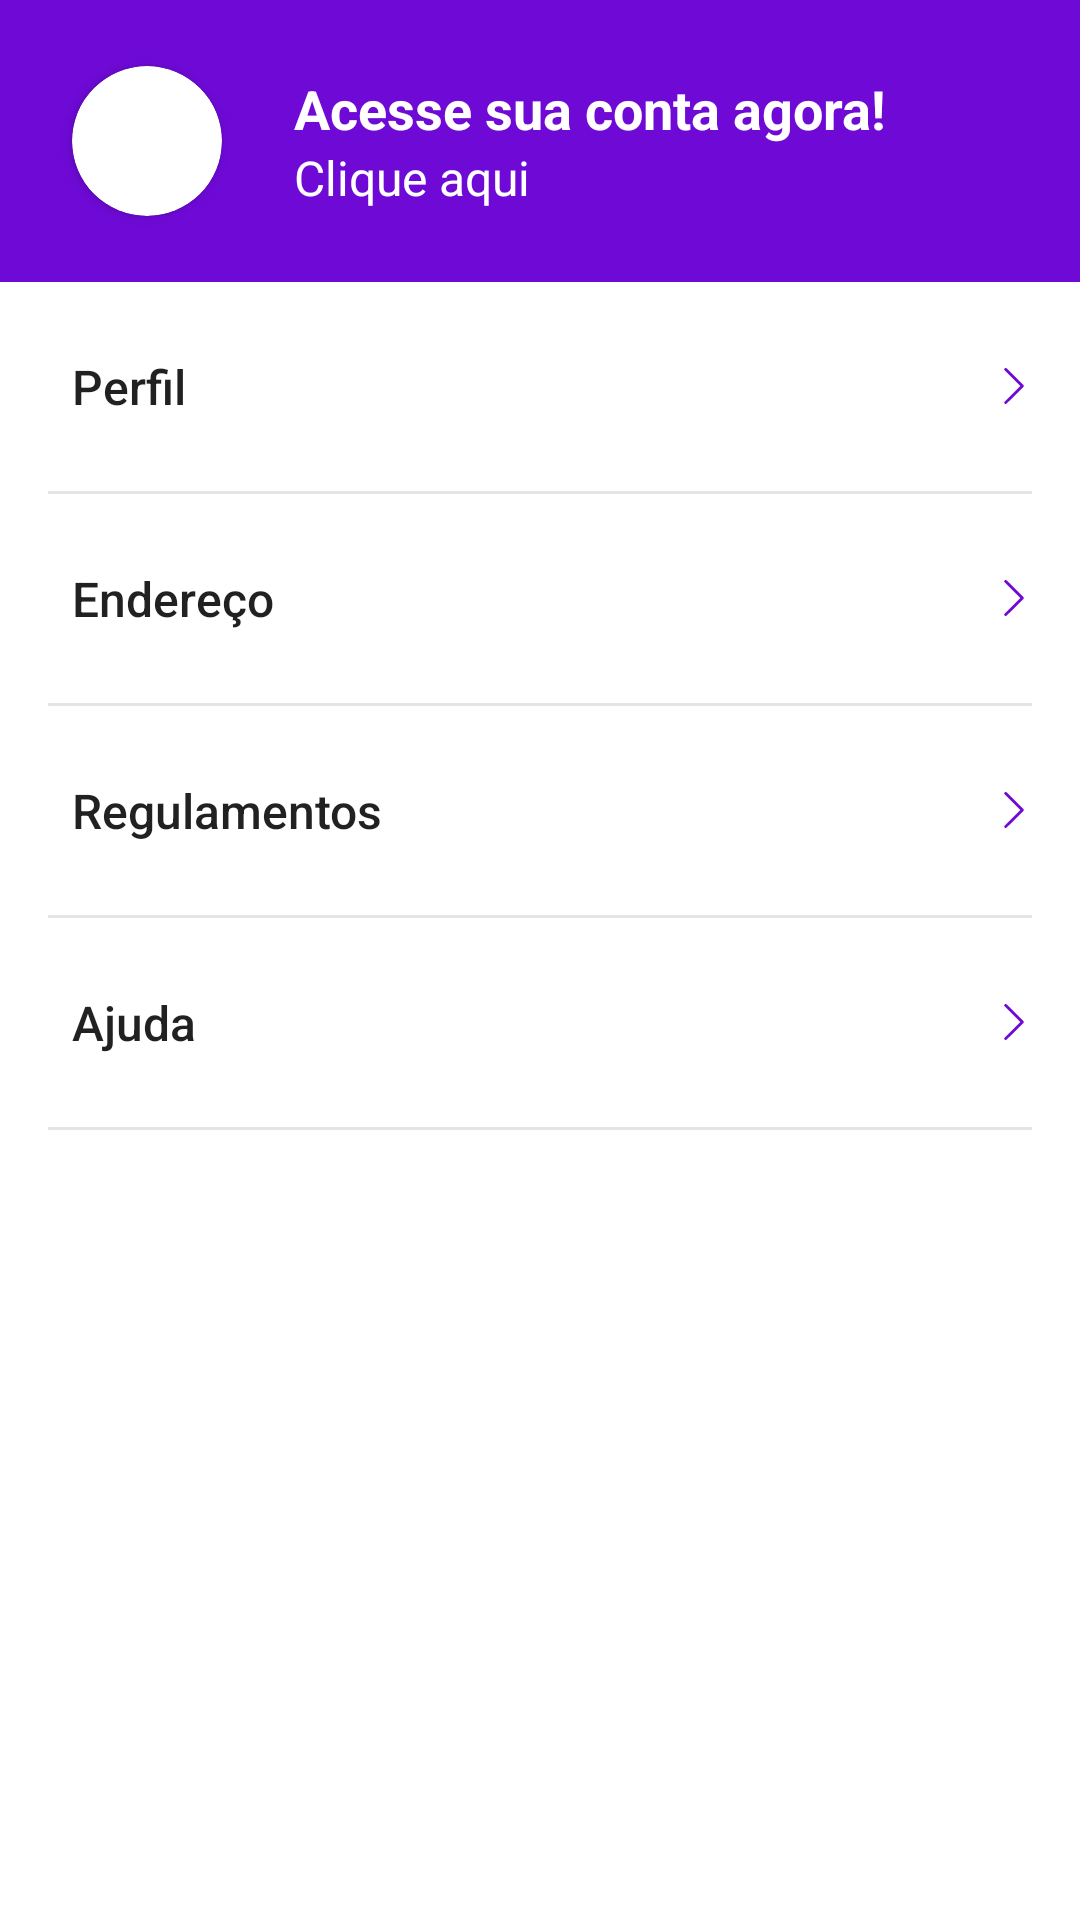

Screen size 1080px×1920px. Icon name, then its center in pixels as (x=x, y=y):
seta direita: (x=1014, y=386), (x=1014, y=598), (x=1014, y=810), (x=1014, y=1022)
